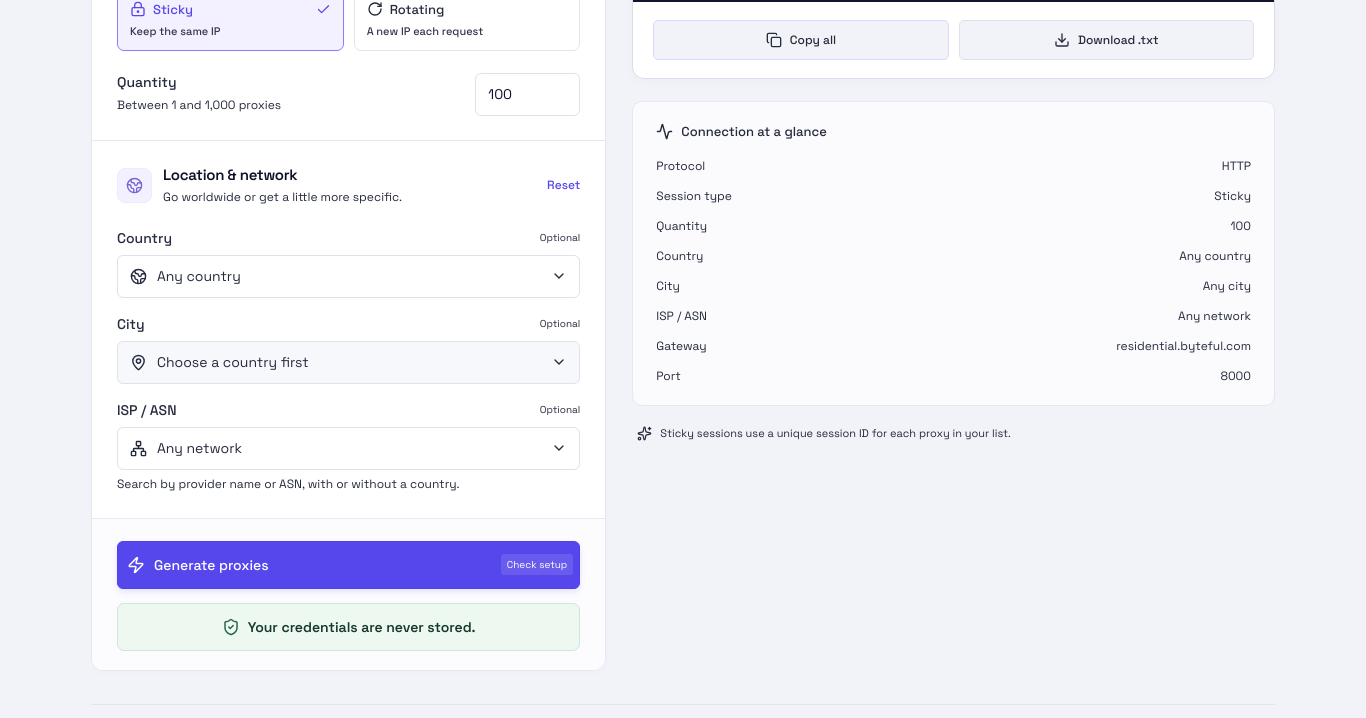
Test: generator user flow › explains missing credentials and focuses the first missing field: Proxy user ID
(page scrolled)
Click the button "Generate proxies Check setup" at (211, 565), box [117, 541, 580, 589]
(page scrolled)
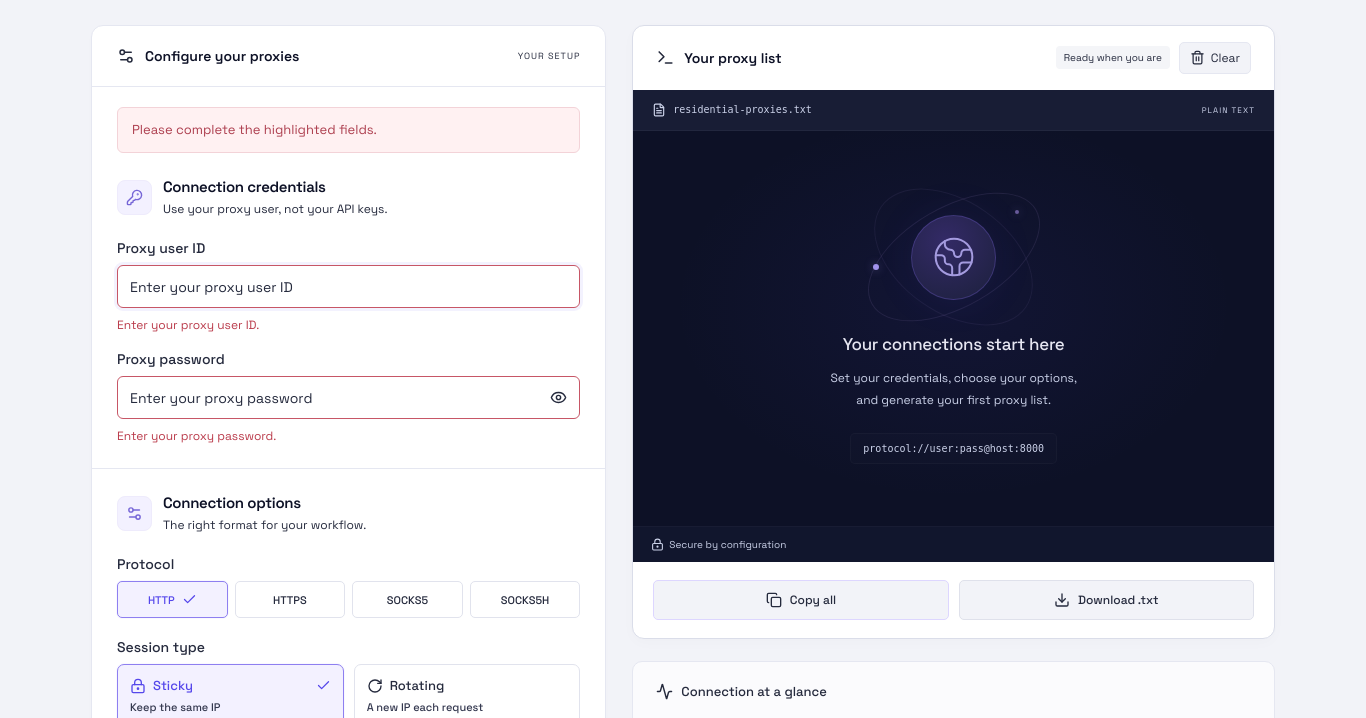
Expected: the message reads "Please complete the highlighted fields.", [132, 121, 377, 138]
Type "filled" into the field labelled "Proxy user ID" at (349, 287), box [117, 265, 580, 308]
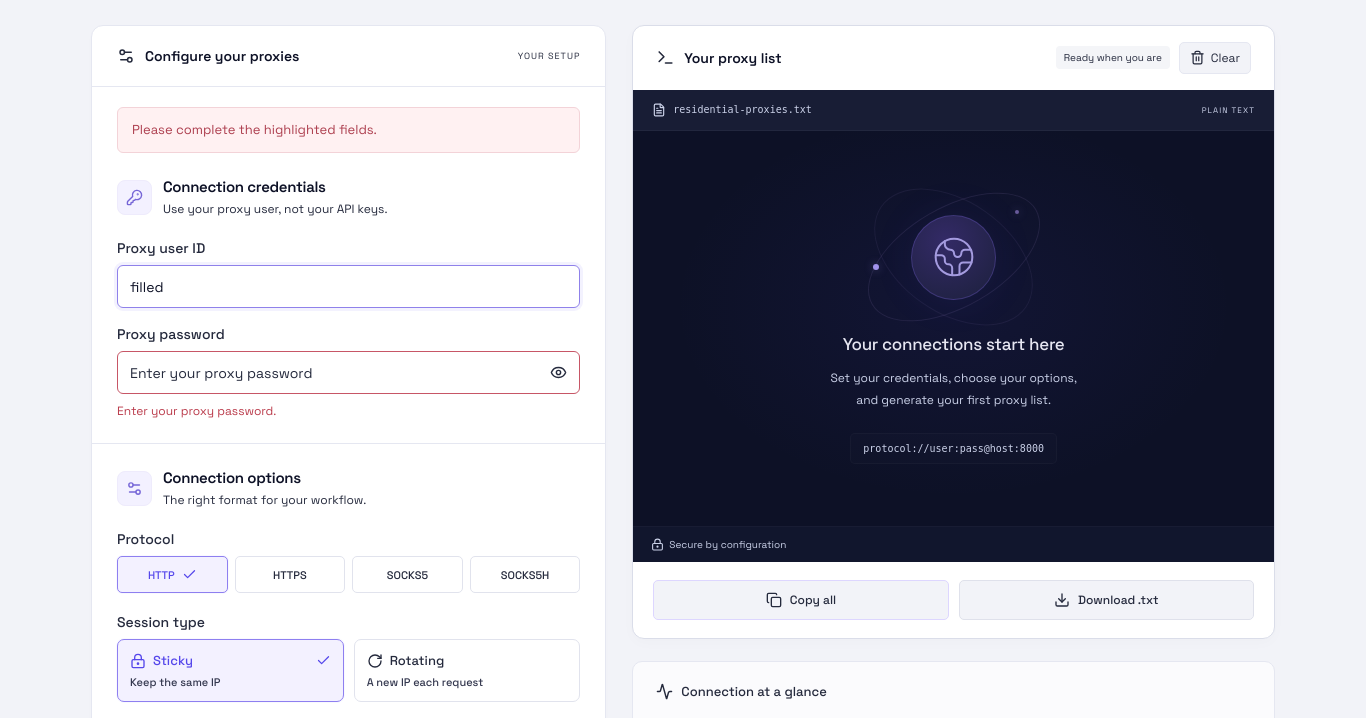
Expected: the field labelled "Proxy user ID" does not have attribute aria-invalid="true", [117, 265, 580, 308]
